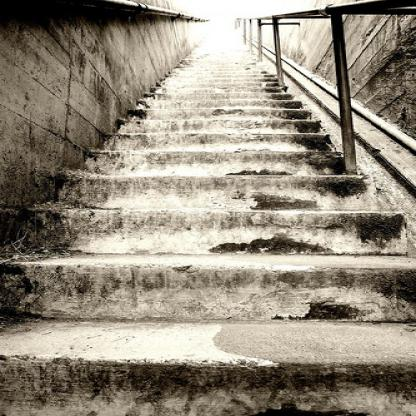stairs: (82, 178, 365, 416)
